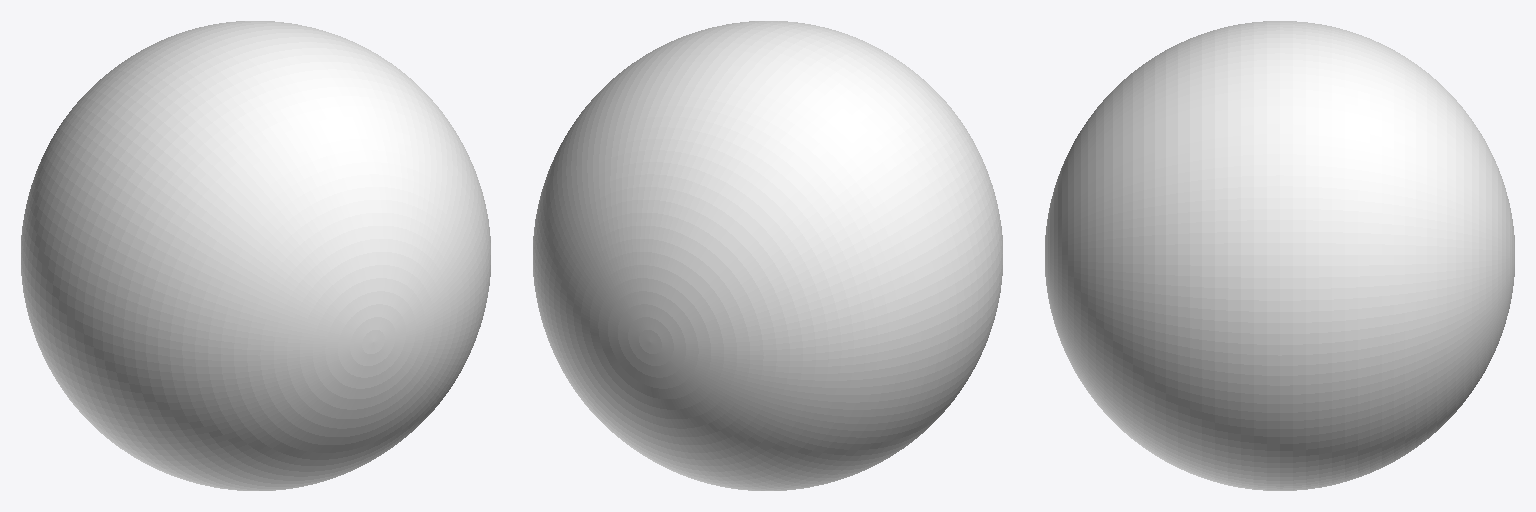
The model's file is ball.obj.
The picture shows the model from 3 angles: view 1: azimuth 30°, elevation 25°; view 2: azimuth 150°, elevation 25°; view 3: azimuth 270°, elevation 25°; orthographic projection.
Parts seen in each view (by area): view 1: obj1; view 2: obj1; view 3: obj1.
Part boxes in pixels (bbox=[...]): obj1: bbox=[21, 21, 490, 490]; obj1: bbox=[533, 21, 1002, 490]; obj1: bbox=[1045, 21, 1514, 490].
Size of the model in its own units: 48.2 by 48.2 by 48.21.